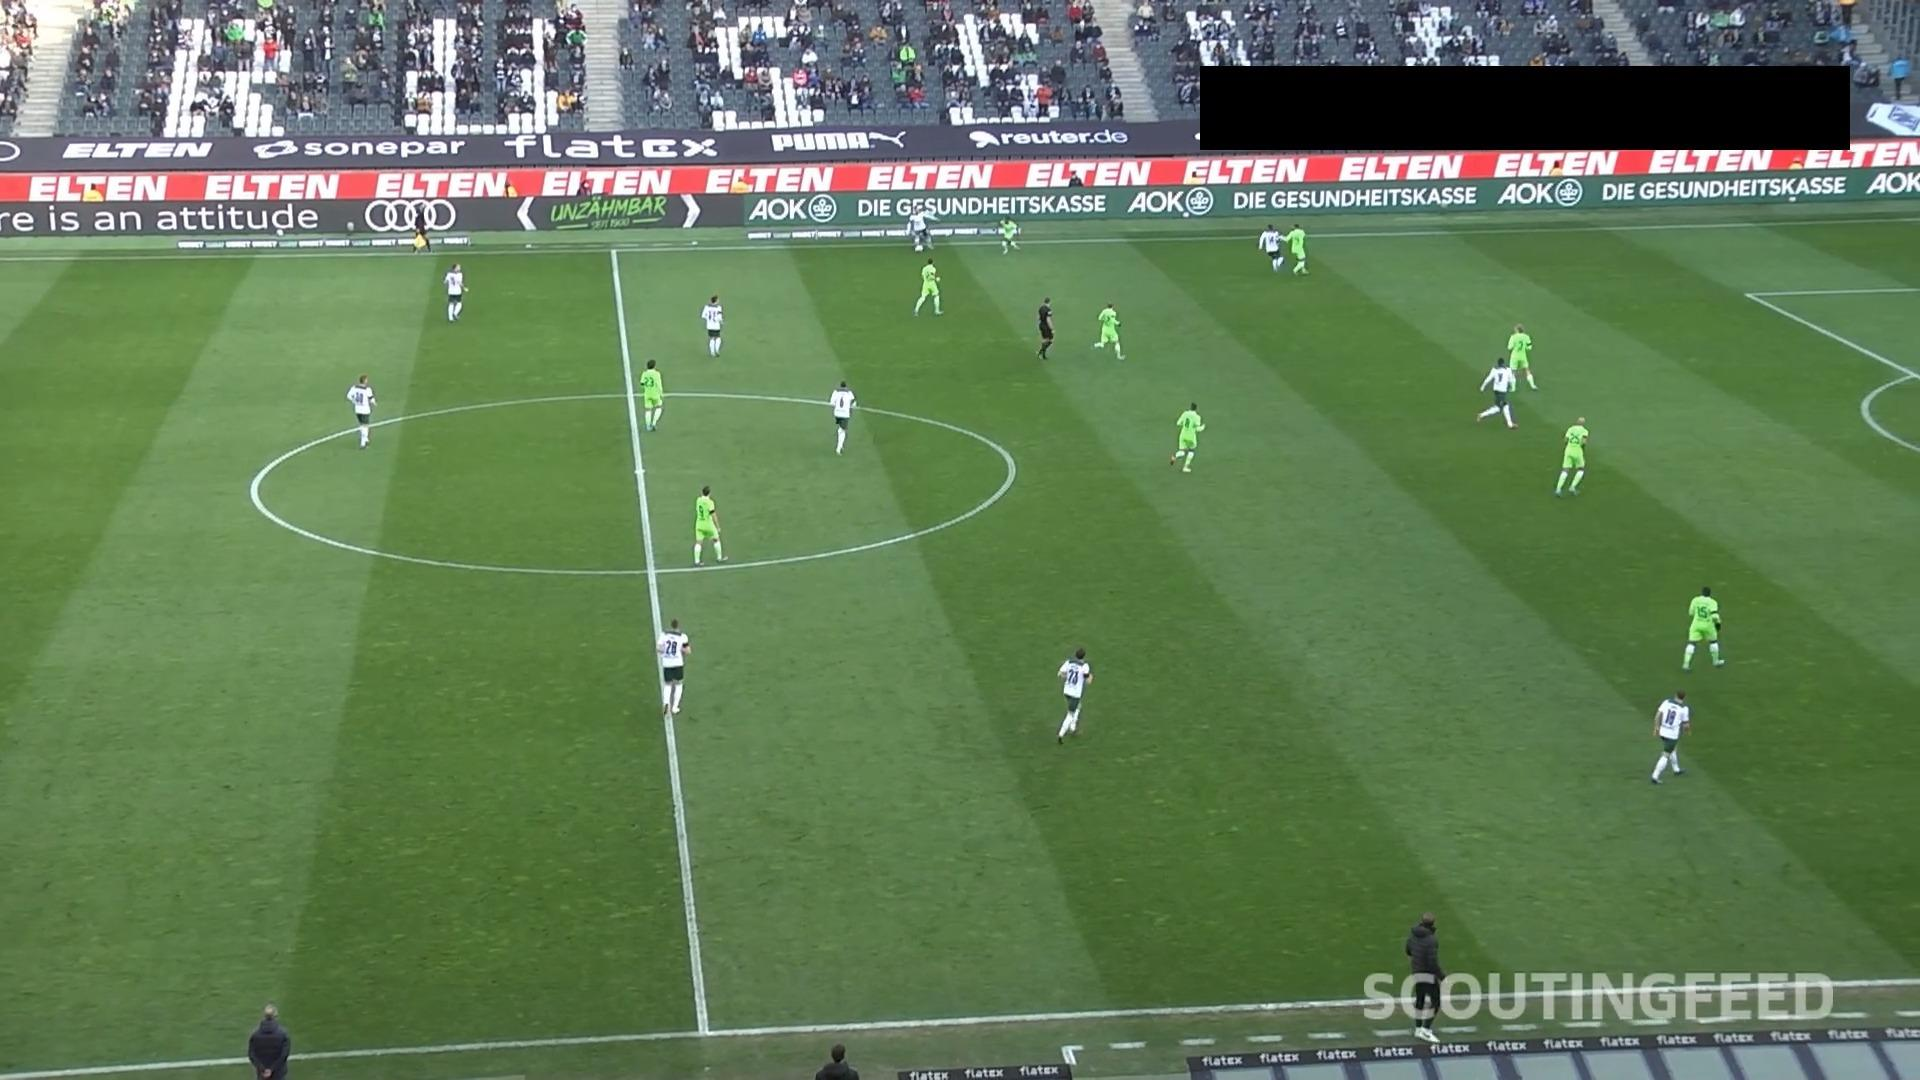ball: (914, 243, 924, 253)
